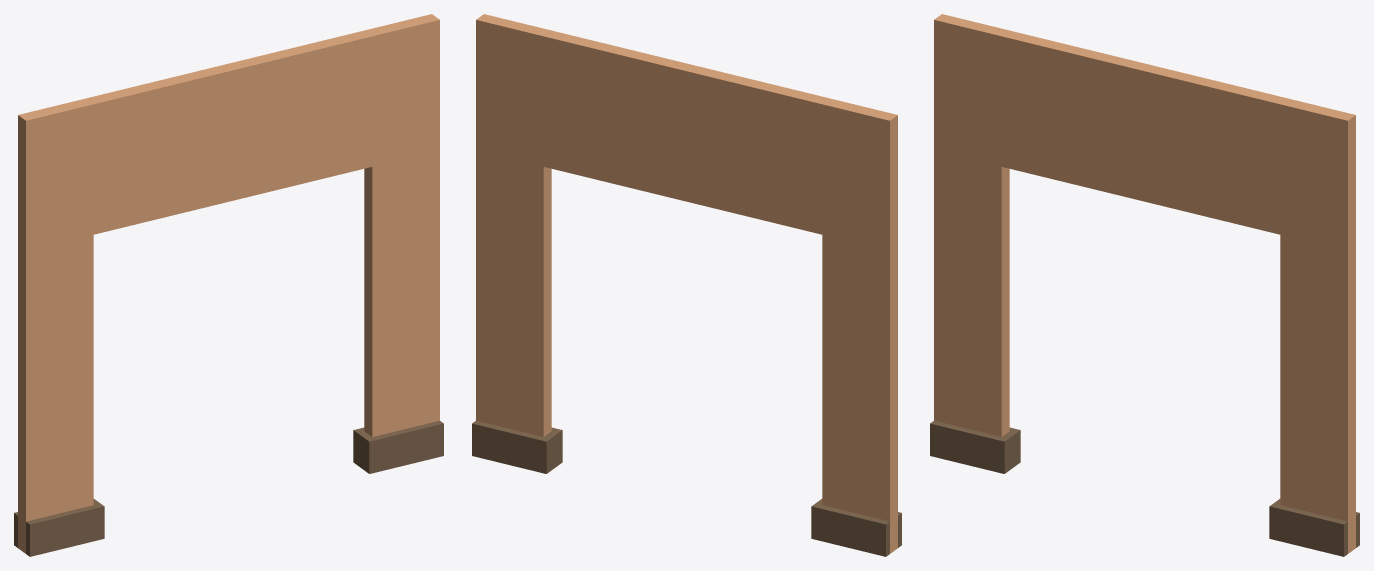
Rendered from Mesh_WallBaseboard_D5.fbx.
The picture shows the model from 3 angles, left to right: view 1: azimuth 30°, elevation 25°; view 2: azimuth 150°, elevation 25°; view 3: azimuth 330°, elevation 25°; orthographic projection.
Parts seen in each view (by area): view 1: Mesh_WallBaseboard_D5; view 2: Mesh_WallBaseboard_D5; view 3: Mesh_WallBaseboard_D5.
Part boxes in pixels (x1=…): Mesh_WallBaseboard_D5: x1=14, y1=14, x2=443, y2=556; Mesh_WallBaseboard_D5: x1=472, y1=14, x2=901, y2=556; Mesh_WallBaseboard_D5: x1=930, y1=14, x2=1359, y2=556.
Bounding box in the file's own units: 3 × 3 × 0.2.
